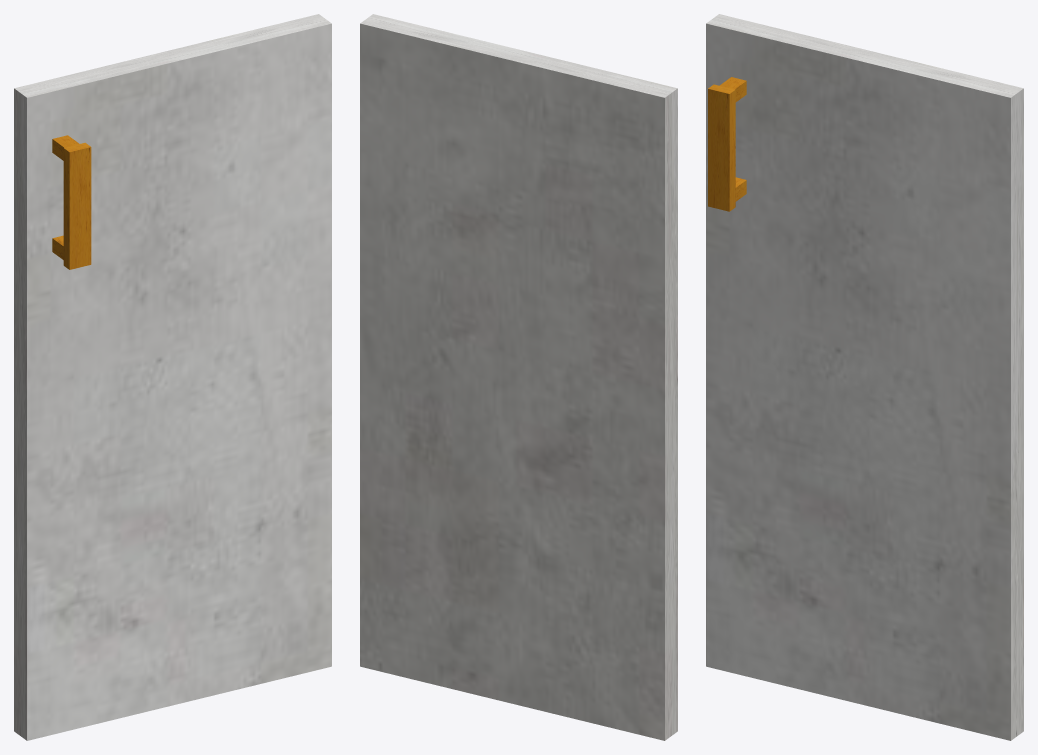
The model's file is дверца холодильника1.fbx.
3 views of the same model, side by side, from view 1: azimuth 30°, elevation 25°; view 2: azimuth 150°, elevation 25°; view 3: azimuth 330°, elevation 25° (orthographic).
Visible parts, largest first — view 1: Cube.003; view 2: Cube.003; view 3: Cube.003.
Boxes of the visible parts, <box> form: Cube.003: <box>14,14,331,740</box>; Cube.003: <box>360,14,677,740</box>; Cube.003: <box>706,14,1023,740</box>.
Bounding box in the file's own units: 378 × 763 × 71.81.
Materials: 2 (2 with a texture image).
